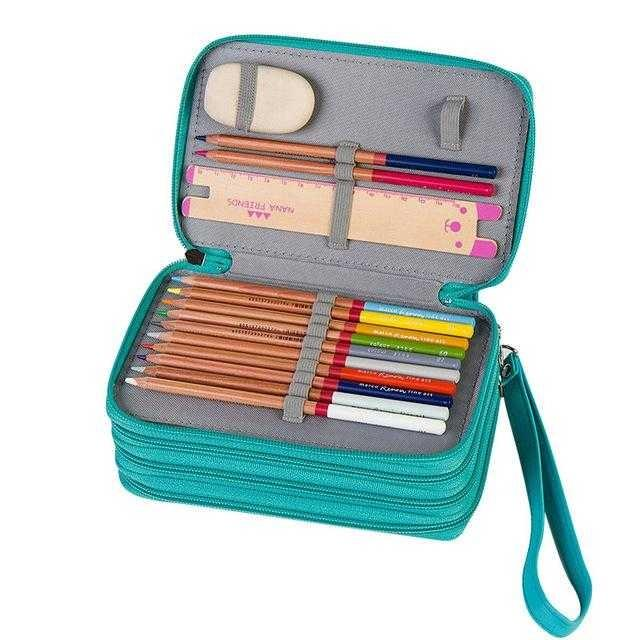pencil: (114, 371, 456, 438), (183, 138, 505, 204), (162, 266, 493, 330), (133, 324, 464, 387), (136, 347, 458, 411), (131, 339, 463, 401), (164, 282, 483, 343), (125, 364, 454, 423), (148, 305, 482, 363), (142, 315, 465, 372), (157, 292, 473, 350), (178, 130, 509, 180)
